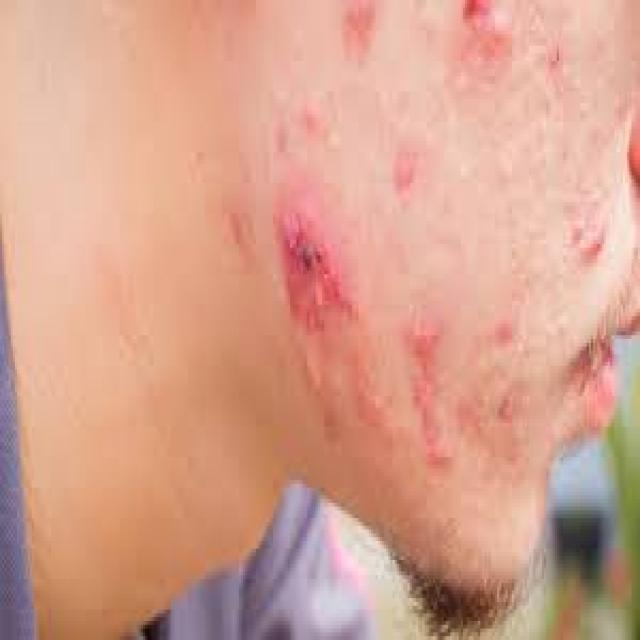Acne: (274, 202, 354, 332), (408, 314, 452, 470), (391, 139, 421, 211), (572, 214, 606, 262), (460, 0, 493, 31), (492, 315, 516, 352), (494, 391, 515, 428)
